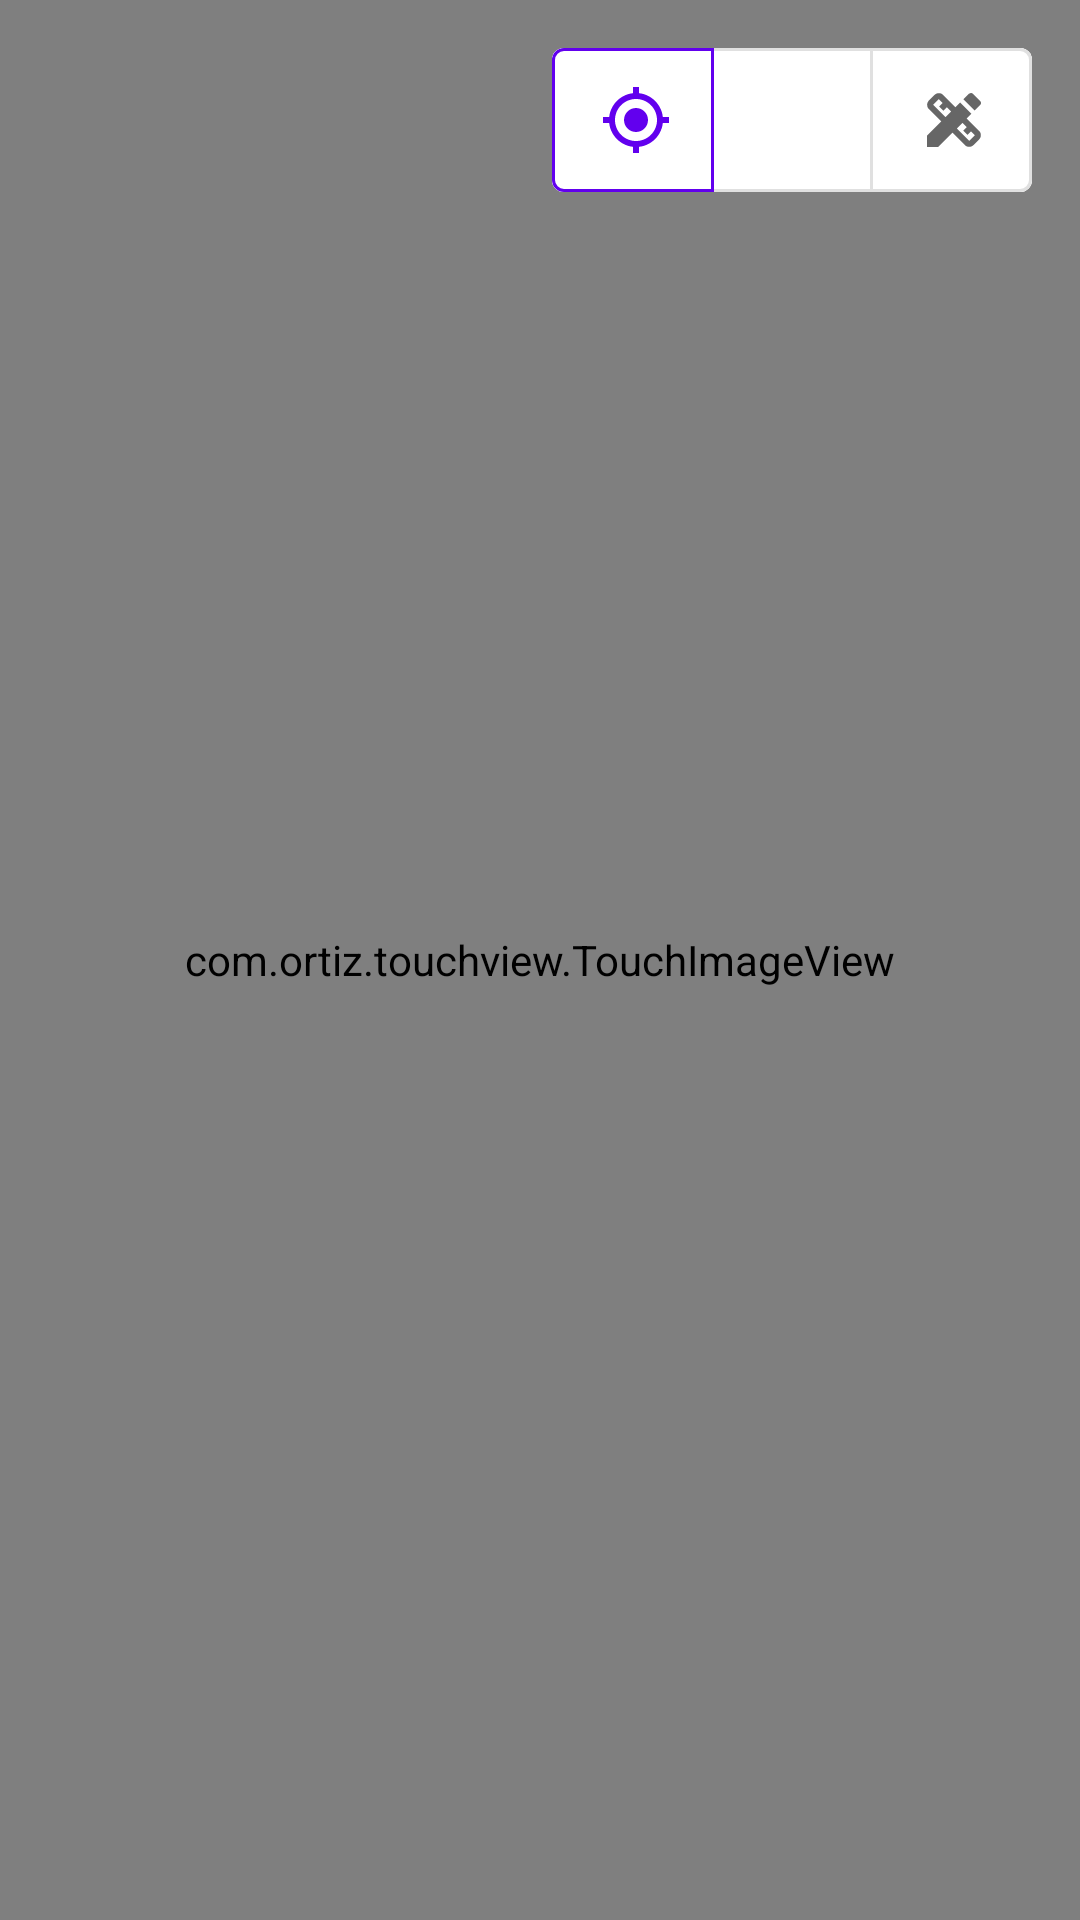

Screen size 1080*1920. Icon name, then its center in pixels as (x=x, y=y):
design: (x=951, y=120)
location: (x=633, y=120)
